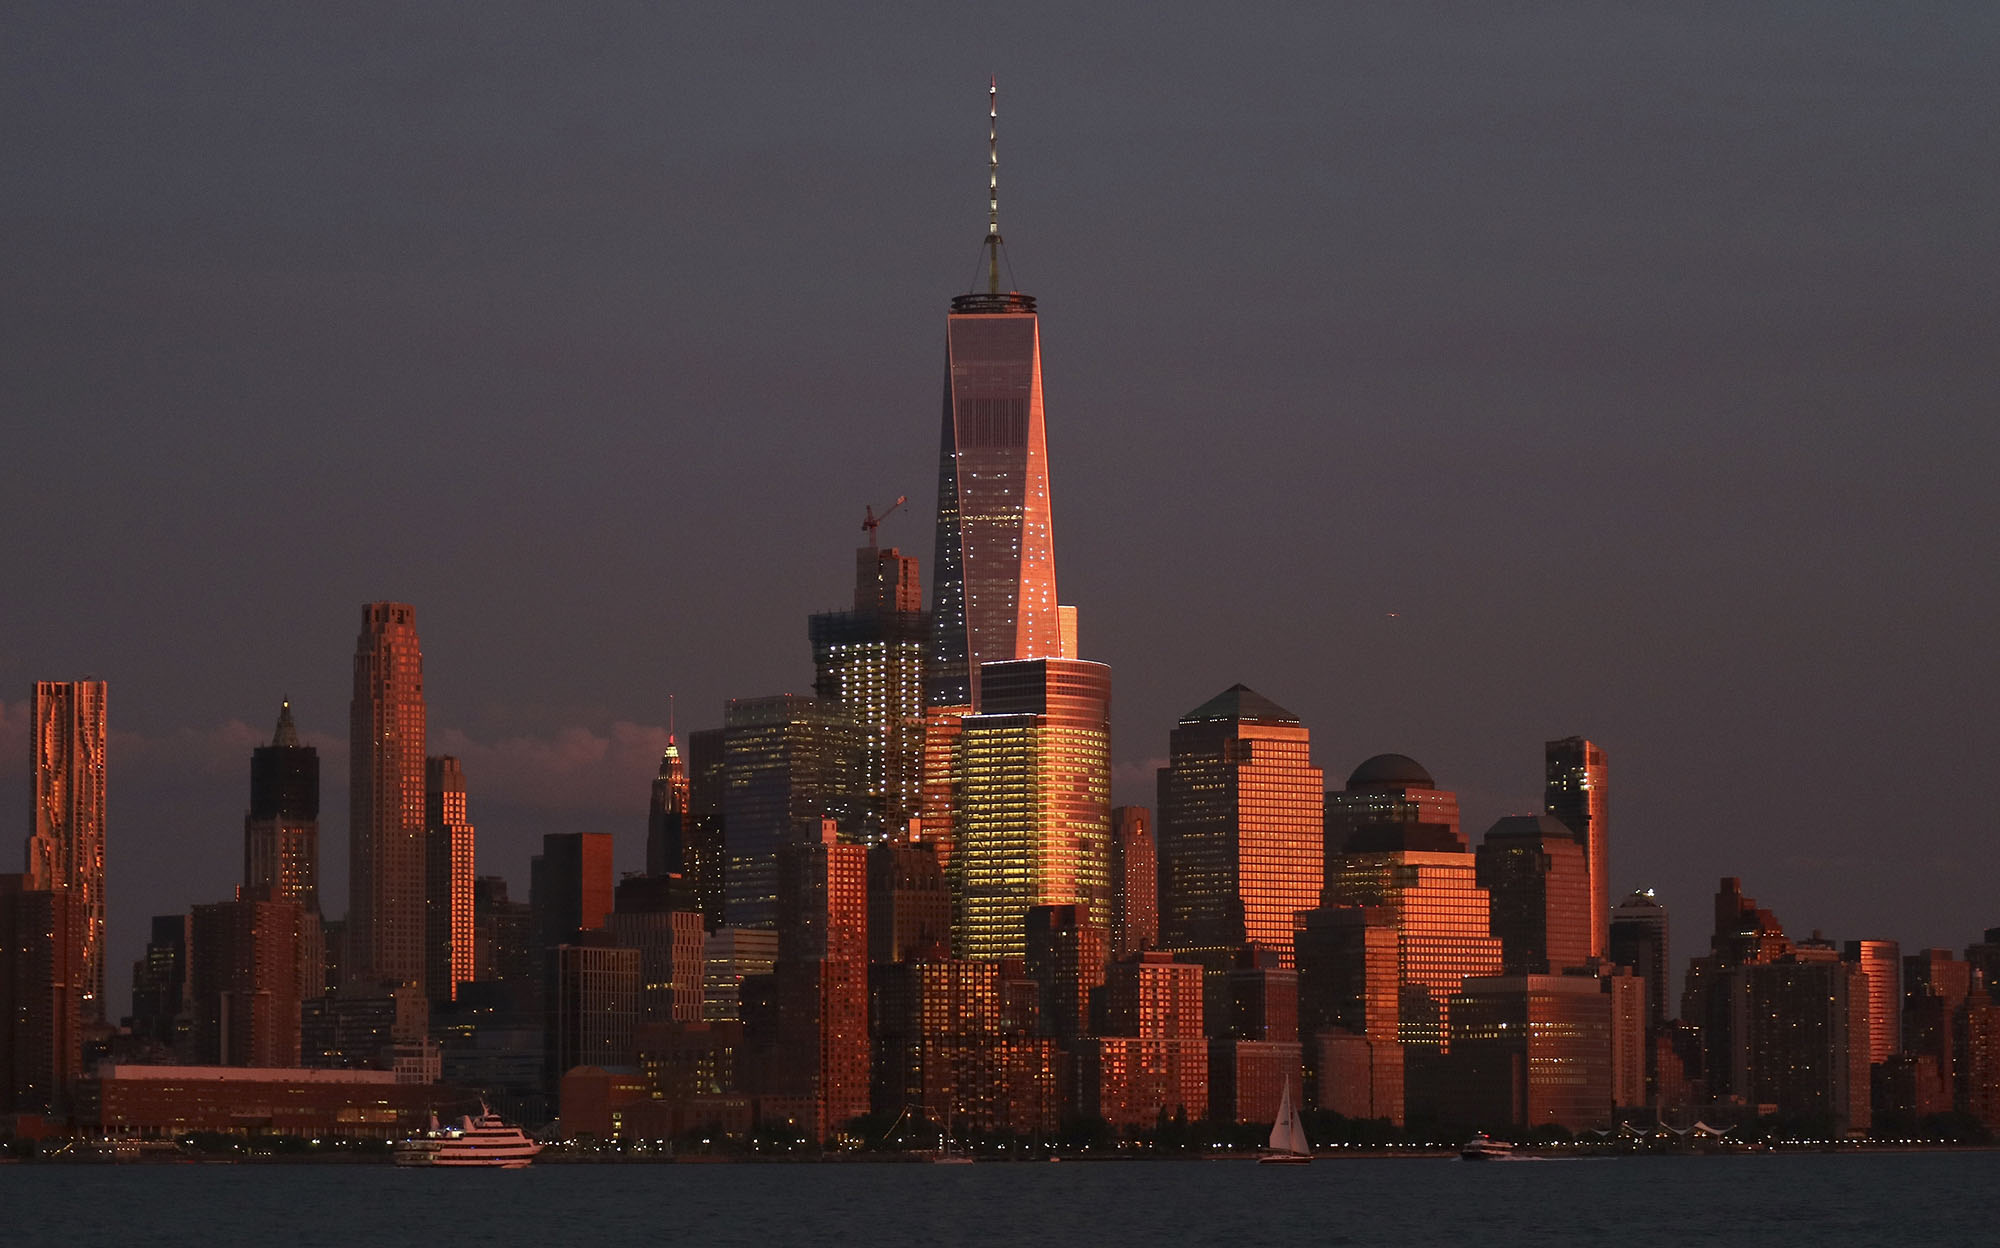wtc: (932, 75, 1055, 705)
